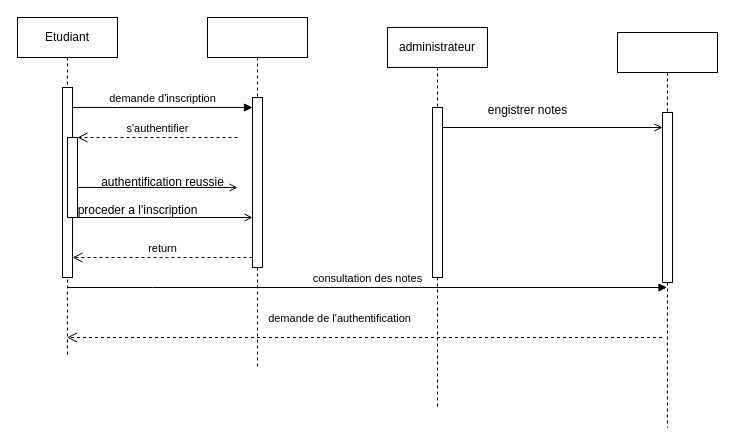
Some shapes in this 735 by 445 pixel diagram are drawn without their labels. Each missing label, with the box of its shape:
incriptions: (206, 16, 308, 368)
notes: (616, 32, 718, 428)
